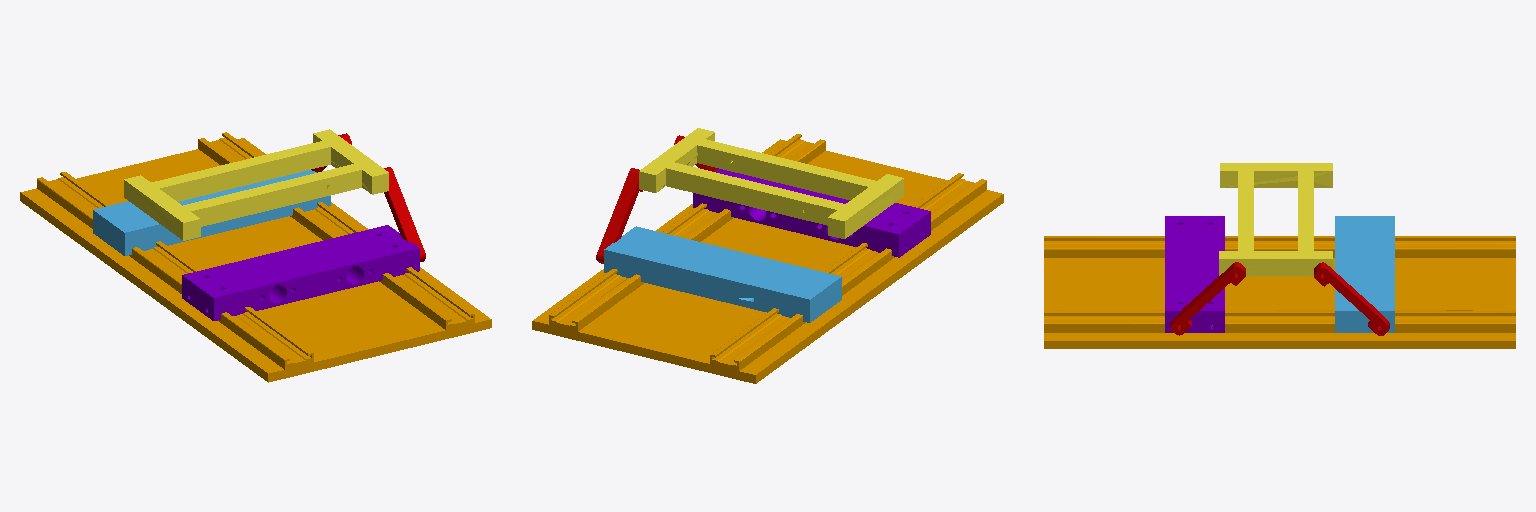
The robot description file, URDF, robot "origins":
<?xml version="1.0"?>
<robot name="origins">

  <material name="blue">
    <color rgba="0 0 0.8 1"/>
  </material>
  <material name="red">
    <color rgba="0.8 0 0 1"/>
  </material>

  <link name="base_link">
    <visual>
      <origin rpy="0 0 1.57079633" xyz="0 0 0"/>
      <geometry>
        <mesh filename="model://actuatorBot/meshes/base_simplified.dae"/>
      </geometry>
    </visual>
    <inertial>
        <mass value="0.1"/>
        <inertia ixx="0.015" iyy="0.0375" izz="0.0375" ixy="0" ixz="0" iyz="0"/>
     </inertial> 
    <collision>
      <geometry>
        <box size="0.13 0.25 0.0075"/>
      </geometry>
    </collision>
  </link>

  <link name="carriage1">
    <visual>
      <origin rpy="0 0 0" xyz="-0.0025 0 0"/>
      <geometry>
        <mesh filename="model://actuatorBot/meshes/carriage_simplified.dae"/>
      </geometry>
    </visual>
     <inertial>
        <mass value="0.116"/>
        <inertia ixx="0.015" iyy="0.0375" izz="0.0375" ixy="0" ixz="0" iyz="0"/>
     </inertial> 
    <collision>
      <geometry>
        <box size="0.12 0.03 0.015"/>
      </geometry>
    </collision>
  </link>

  <joint name="base_to_carriage1" type="prismatic">
    <parent link="base_link"/>
    <child link="carriage1"/>
    <origin xyz="0 0.045 0.0075"/>
    <axis xyz = "0 1 0"/>
    <limit effort="1000.0" lower="-0.08" upper=".08" velocity="0.5"/>
  </joint>


  <link name="carriage2">
    <visual>
       <origin rpy="0 0 0" xyz="-0.0025 0 0"/>
      <geometry>
        <mesh filename="model://actuatorBot/meshes/carriage.dae"/>
      </geometry>
    </visual>
     <inertial>
        <mass value="0.116"/>
        <inertia ixx="0.015" iyy="0.0375" izz="0.0375" ixy="0" ixz="0" iyz="0"/>
     </inertial> 
    <collision>
      <geometry>
        <box size="0.12 0.03 0.015"/>
      </geometry>
    </collision>
  </link>
     
  <joint name="base_to_carriage2" type="prismatic">
    <parent link="base_link"/>
    <child link="carriage2"/>
    <origin xyz="0 -0.045 0.0075"/>
    <axis xyz = "0 1 0"/>
    <limit effort="1000.0" lower="-0.08" upper="0.08" velocity="0.5"/>
  </joint>


  <link name="middle">
    <visual>
       <origin rpy="1.57059633 3.1415926535 1.57059633" xyz="0 0 0"/>
      <geometry>
        <mesh filename="model://actuatorBot/meshes/middle1_simplified.dae"/>
      </geometry>
    </visual>
    <inertial>
        <mass value="0.9"/>
        <inertia ixx="0.015" iyy="0.0375" izz="0.0375" ixy="0" ixz="0" iyz="0"/>
     </inertial> 
    <collision>
      <geometry>
        <box size="0.12 0.06 0.01"/>
      </geometry>
      <origin xyz="0 -.025 0"/>
    </collision>
  </link>

  <joint name="arml1_to_middle" type="continuous">
    <parent link="arml1"/>
    <child link="middle"/>
    <origin rpy="0.7853981625 0 0" xyz="-0.0625 -0.045 0"/>
    <axis xyz = "1 0 0"/>
  </joint>



<gazebo>
       <plugin name="Myrobot_ClosedLoopPlugin" filename="libpegasus_gazebo_closed_loop_plugin.so">
           <joint>arml4_to_middle</joint>
           <child>middle</child>
           <parent>arml4</parent>
           <position>-0.0625 -0.045 0.0</position>
           <rotation>0.7853981625 0 0</rotation>
       </plugin>
     </gazebo>






<transmission name = "tran1">
    <type>transmission_interface/FourBarLinkageTransmission</type>
    <joint name = "base_to_carriage1">
        <hardwareInterface>hardware_interface/EffortJointInterface</hardwareInterface>
    </joint>
    <actuator name = "motor1">
        <hardwareInterface>EffortJointInterface</hardwareInterface>
        <mechanicalReduction>1</mechanicalReduction>
    </actuator>
</transmission>

<transmission name = "tran2">
    <type>transmission_interface/FourBarLinkageTransmission</type>
    <joint name = "base_to_carriage2">
        <hardwareInterface>hardware_interface/EffortJointInterface</hardwareInterface>
    </joint>
    <actuator name = "motor2">
        <hardwareInterface>EffortJointInterface</hardwareInterface>
        <mechanicalReduction>1</mechanicalReduction>
    </actuator>
</transmission>

<transmission name = "tran3">
    <type>transmission_interface/FourBarLinkageTransmission</type>
    <joint name = "carriage1_to_arml1">
        <hardwareInterface>hardware_interface/EffortJointInterface</hardwareInterface>
    </joint>
    <actuator name = "motor3">
        <hardwareInterface>EffortJointInterface</hardwareInterface>
        <mechanicalReduction>1</mechanicalReduction>
    </actuator>
</transmission>

<transmission name = "tran4">
    <type>transmission_interface/FourBarLinkageTransmission</type>
    <joint name = "carriage2_to_arml4">
        <hardwareInterface>hardware_interface/EffortJointInterface</hardwareInterface>
    </joint>
    <actuator name = "motor4">
        <hardwareInterface>EffortJointInterface</hardwareInterface>
        <mechanicalReduction>1</mechanicalReduction>
    </actuator>
</transmission>



<gazebo>
 <plugin name = "gazebo_ros_control" filename = "libgazebo_ros_control.so">
    <robotNamespace>/robot</robotNamespace>
    <legacyModeNS>true</legacyModeNS>
  </plugin>
</gazebo>

  <link name="arml1">
    <visual>
       <origin rpy="1.57059633 3.141592 1.57079633" xyz="0 0 0"/>
      <geometry>
        <mesh filename="model://actuatorBot/meshes/arm1.dae"/>
      </geometry>
    </visual>
    <collision>
      <geometry>
        <box size="0.005 0.05 0.003"/>
      </geometry>
      <origin xyz="0 -0.0225 0"/>
    </collision>
    <inertial>
        <mass value="0.0159"/>
        <inertia ixx="0.015" iyy="0.0" izz="0.015" ixy="0" ixz="0" iyz="0"/>
     </inertial> 
  </link>
  <joint name="carriage1_to_arml1" type="continuous">
    <parent link="carriage1"/>
    <child link="arml1"/>
    <axis xyz = "1 0 0"/>
    <origin rpy="-0.7853981625 0 0" xyz="0.0625 0.008 0"/>
  </joint>



  <link name="arml4">
    <visual>
       <origin rpy="1.57059633 3.141592 -1.57079633" xyz="0 0 0"/>
      <geometry>
        <mesh filename="model://actuatorBot/meshes/arm1.dae"/>
      </geometry>
    </visual>
    <collision>
      <origin xyz="0 0.0225 0"/>
      <geometry>
        <box size="0.005 0.05 0.003"/>
      </geometry>
    </collision>
   <inertial>
        <mass value="0.0159"/>
        <inertia ixx="0.015" iyy="0" izz="0.015" ixy="0" ixz="0" iyz="0"/>
     </inertial> 
  </link>
  <joint name="carriage2_to_arml4" type="continuous">
    <parent link="carriage2"/>
    <child link="arml4"/>
    <origin rpy="0.7853981625 0 0" xyz="0.0625 -0.008 0"/>
    <axis xyz = "1 0 0"/>
  </joint>

    
</robot>

--- What the picture shows (computed from the rendered views, not written in the file) ---
3 views of the same robot in one strip: view 1: azimuth 30°, elevation 25°; view 2: azimuth 150°, elevation 25°; view 3: azimuth 270°, elevation 25° (orthographic).
Robot: origins — 6 links, 5 joints (3 continuous, 2 prismatic); root link base_link; default pose: every joint at zero.
Visible links, largest first — view 1: base_link, middle, carriage2, carriage1, arml4; view 2: base_link, middle, carriage1, carriage2, arml1; view 3: base_link, middle, carriage1, carriage2, arml1, arml4.
Boxes of the visible links, x1,y1,x2,y2 form: base_link: [20, 132, 491, 382]; middle: [124, 129, 388, 240]; carriage2: [182, 225, 419, 320]; carriage1: [93, 170, 330, 255]; arml4: [384, 167, 425, 261]; base_link: [532, 134, 1003, 383]; middle: [639, 128, 903, 238]; carriage1: [604, 226, 841, 322]; carriage2: [693, 169, 930, 257]; arml1: [596, 168, 642, 263]; base_link: [1044, 236, 1515, 348]; middle: [1219, 163, 1332, 275]; carriage1: [1335, 216, 1394, 332]; carriage2: [1165, 216, 1224, 332]; arml1: [1314, 262, 1389, 335]; arml4: [1170, 262, 1245, 335].
Size in the robot's own frame: 0.1315 by 0.25 by 0.0504 metres.
Meshes: 5 distinct files referenced, 6 mesh visuals loaded (5 Collada DAE).